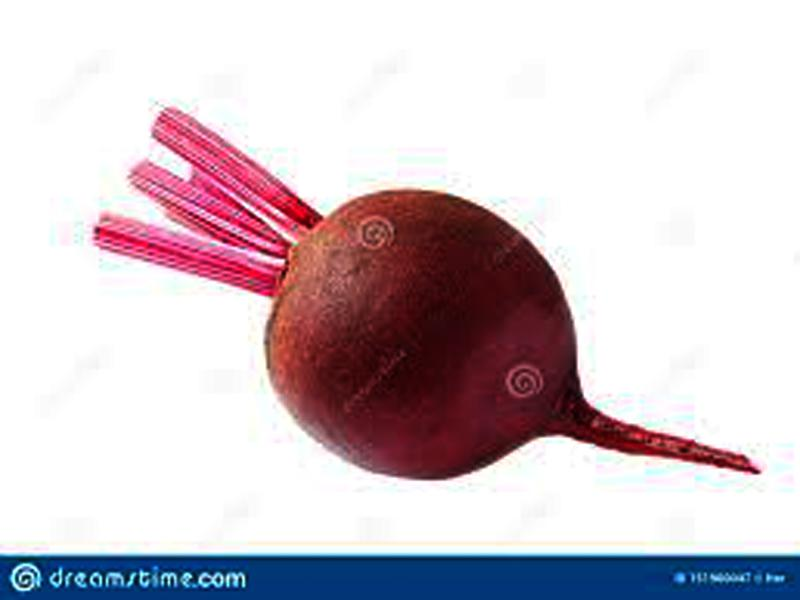Beet: (96, 111, 753, 474)
